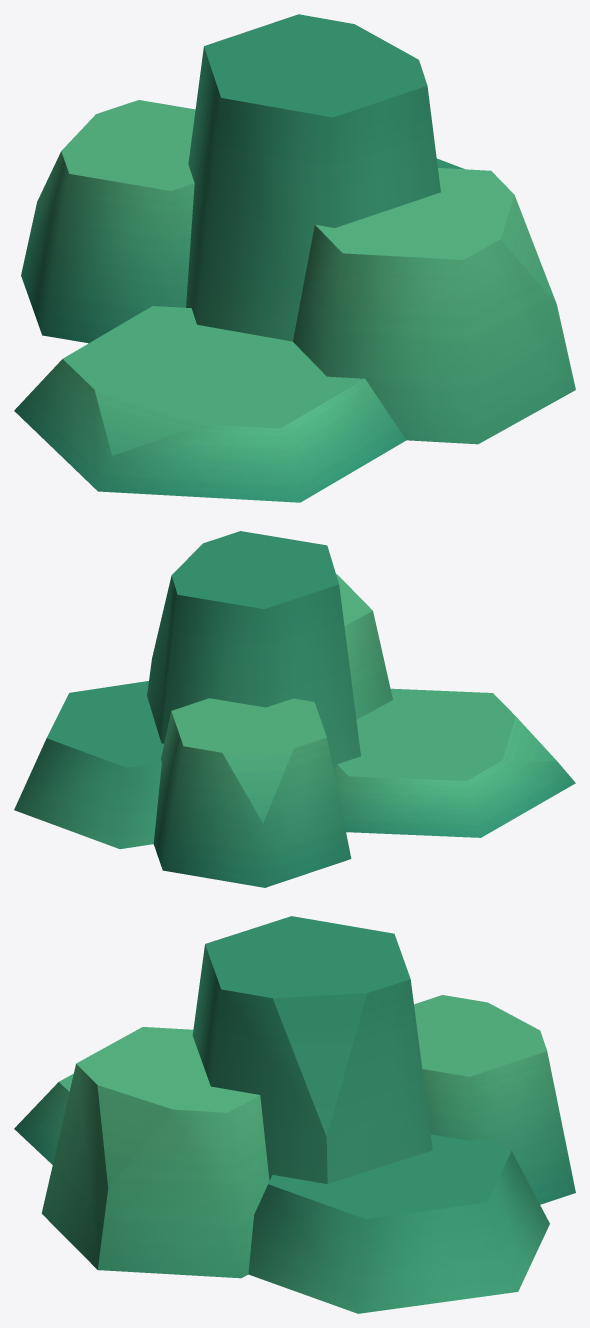
Rendered from detail-rocks-large.glb.
The picture shows the model from 3 angles, top to bottom: view 1: azimuth 30°, elevation 25°; view 2: azimuth 150°, elevation 25°; view 3: azimuth 270°, elevation 25°; orthographic projection. The views are drawn at different scales.
Visible parts, largest first — view 1: detail-rocks-large; view 2: detail-rocks-large; view 3: detail-rocks-large.
Boxes of the visible parts, x1=… form: detail-rocks-large: x1=14, y1=14, x2=575, y2=502; detail-rocks-large: x1=14, y1=531, x2=575, y2=887; detail-rocks-large: x1=14, y1=916, x2=575, y2=1313.
Bounding box in the file's own units: 0.8922 × 0.4145 × 0.8593.
1 material, 1 textured.
